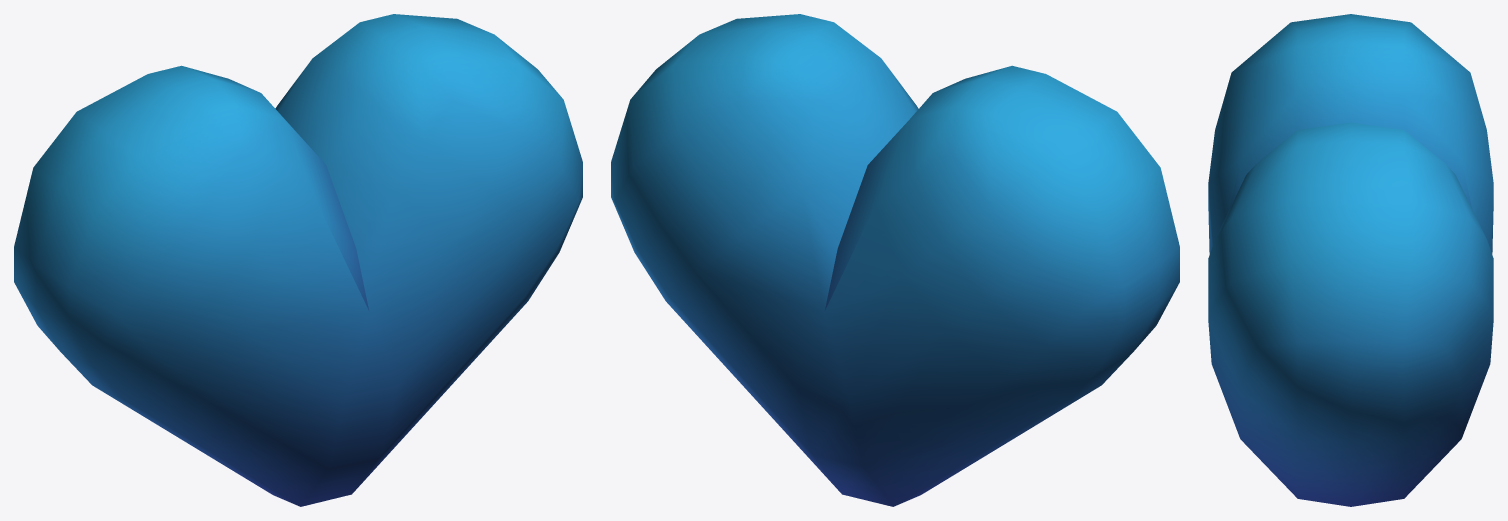
The model's file is heart-blue.glb.
The picture shows the model from 3 angles, left to right: view 1: azimuth 30°, elevation 25°; view 2: azimuth 150°, elevation 25°; view 3: azimuth 270°, elevation 25°; orthographic projection. The views are drawn at different scales.
Parts seen in each view (by area): view 1: heart_blue; view 2: heart_blue; view 3: heart_blue.
Part boxes in pixels (bbox=[...]): heart_blue: bbox=[14, 14, 582, 506]; heart_blue: bbox=[611, 14, 1179, 506]; heart_blue: bbox=[1208, 14, 1493, 506].
Size of the model in its own units: 1.08 by 0.8466 by 0.5305.
Materials: 1 (1 with a texture image).
